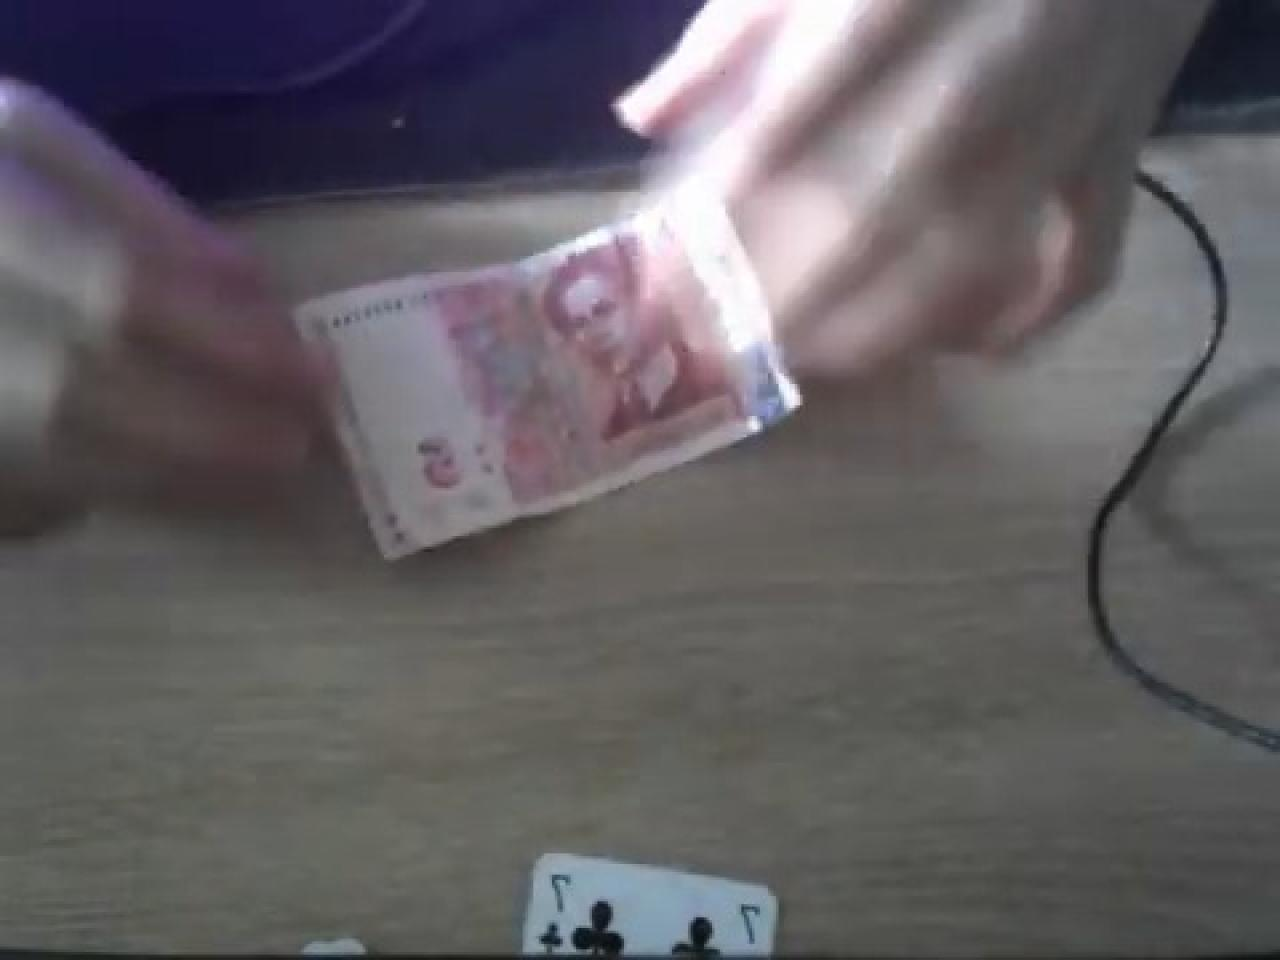5leva: (290, 170, 805, 563)
